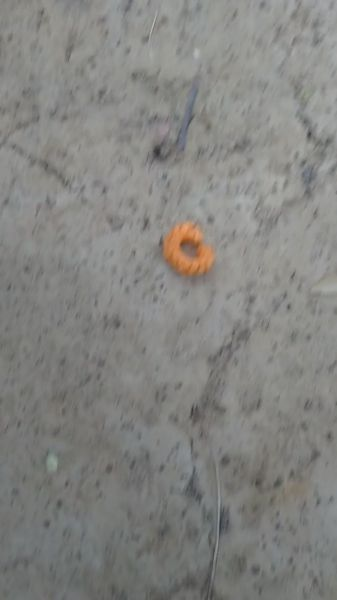eggs: (163, 218, 220, 278)
